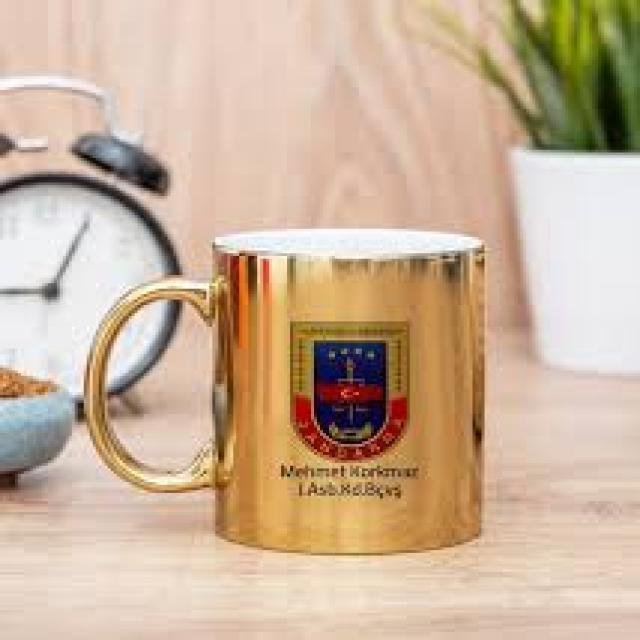taza: (83, 228, 487, 556)
